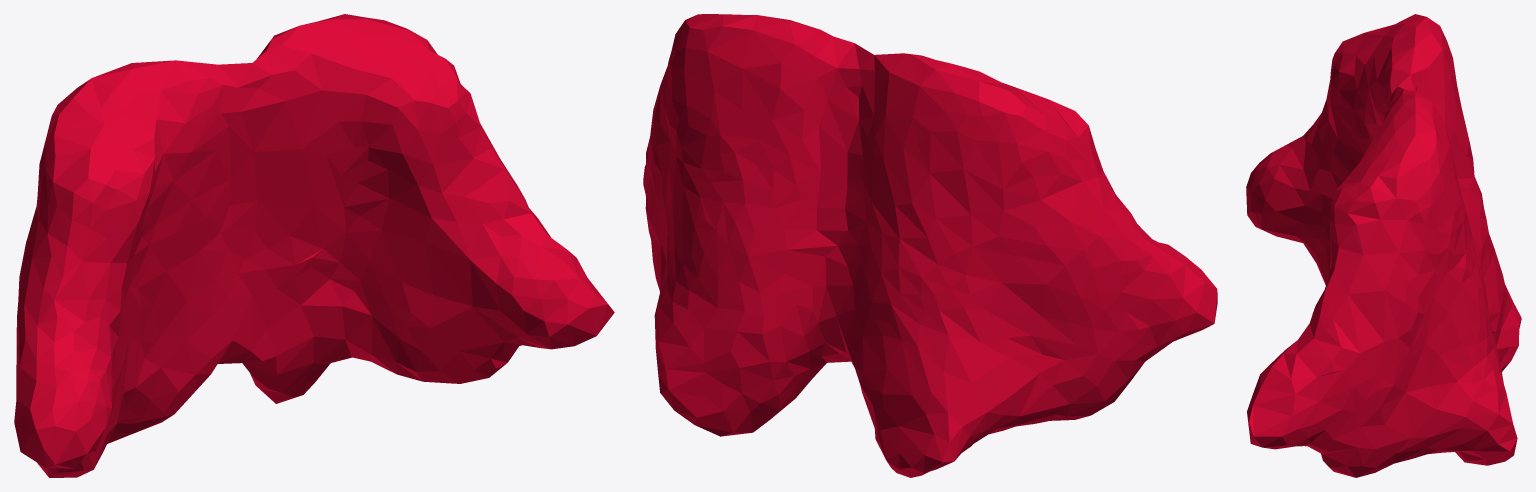
Rendered from 205-PO-parieto-occipital area-('1.0000', '0.0000', '0.2275').obj.
The picture shows the model from 3 angles, left to right: view 1: azimuth 30°, elevation 25°; view 2: azimuth 150°, elevation 25°; view 3: azimuth 270°, elevation 25°; orthographic projection. The views are drawn at different scales.
Bounding box in the file's own units: 107 × 70.45 × 49.4.
